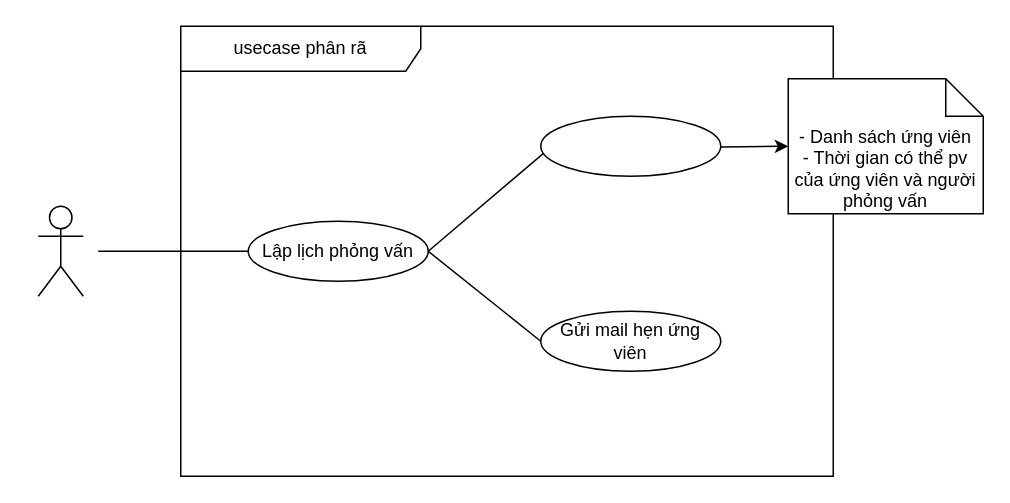
This 1010x503 diagram has some shape labels left out. Here are the shapes that lost their labels. From the top down, the box of each, then its label:
(539, 115, 721, 176): Nhập dữ liệu đầu vào
(37, 205, 83, 296): Nhân sự
